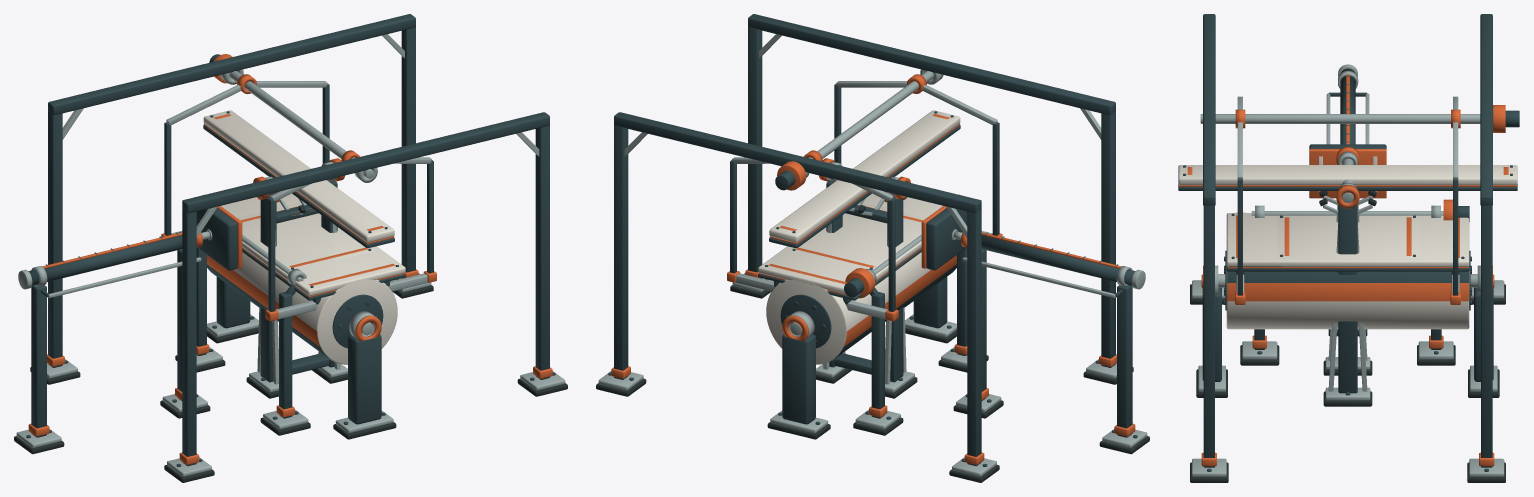
File: obstacle-library.glb
The picture shows the model from 3 angles, left to right: view 1: azimuth 30°, elevation 25°; view 2: azimuth 150°, elevation 25°; view 3: azimuth 270°, elevation 25°; orthographic projection. The views are drawn at different scales.
Parts seen in each view (by area): view 1: SwayCradleBridge_GantryNear, SwayCradleBridge_GantryFar, SwayCradleBridge_DeckVisual, PistonWall_CylinderBody, AxialRoller_DrumVisual, WeightSeesaw_DeckVisual, SwayCradleBridge_HangerVisual, AxialRoller_BearingNear, TimedTrapdoor_AxleFrame, WeightSeesaw_AxleFrame, AxialRoller_BearingFar, PistonWall_HeadVisual (+4 smaller); view 2: SwayCradleBridge_GantryFar, SwayCradleBridge_GantryNear, PistonWall_CylinderBody, AxialRoller_DrumVisual, WeightSeesaw_DeckVisual, SwayCradleBridge_HangerVisual, SwayCradleBridge_DeckVisual, AxialRoller_BearingFar, TimedTrapdoor_AxleFrame, TimedTrapdoor_DeckVisual, WeightSeesaw_AxleFrame, AxialRoller_BearingNear (+5 smaller); view 3: AxialRoller_DrumVisual, SwayCradleBridge_DeckVisual, WeightSeesaw_DeckVisual, SwayCradleBridge_GantryFar, SwayCradleBridge_GantryNear, TimedTrapdoor_DeckVisual, WeightSeesaw_AxleFrame, SwayCradleBridge_UpperAxle, SwayCradleBridge_HangerVisual, TimedTrapdoor_AxleFrame, PistonWall_HeadVisual, AxialRoller_BearingNear (+4 smaller).
Part boxes in pixels (x1,y1,x2,y2): SwayCradleBridge_GantryNear: (164,112,567,482); SwayCradleBridge_GantryFar: (30,14,433,384); SwayCradleBridge_DeckVisual: (221,193,405,300); PistonWall_CylinderBody: (14,231,210,454); AxialRoller_DrumVisual: (207,252,397,364); WeightSeesaw_DeckVisual: (203,110,394,248); SwayCradleBridge_HangerVisual: (161,74,436,321); AxialRoller_BearingNear: (333,311,396,439); TimedTrapdoor_AxleFrame: (175,248,310,435); WeightSeesaw_AxleFrame: (253,158,344,384); AxialRoller_BearingFar: (207,277,258,343); PistonWall_HeadVisual: (196,194,242,270); SwayCradleBridge_GantryFar: (596,112,999,482); SwayCradleBridge_GantryNear: (730,14,1133,384); PistonWall_CylinderBody: (953,231,1149,454); AxialRoller_DrumVisual: (766,252,956,364); WeightSeesaw_DeckVisual: (769,110,960,248); SwayCradleBridge_HangerVisual: (727,74,1002,321); SwayCradleBridge_DeckVisual: (758,193,942,300); AxialRoller_BearingFar: (767,311,830,439); TimedTrapdoor_AxleFrame: (853,248,988,435); TimedTrapdoor_DeckVisual: (787,202,926,274); WeightSeesaw_AxleFrame: (819,158,910,384); AxialRoller_BearingNear: (905,277,956,343); AxialRoller_DrumVisual: (1218,235,1477,329); SwayCradleBridge_DeckVisual: (1226,213,1469,271); WeightSeesaw_DeckVisual: (1178,158,1517,202); SwayCradleBridge_GantryFar: (1467,14,1505,482); SwayCradleBridge_GantryNear: (1190,14,1228,482); TimedTrapdoor_DeckVisual: (1251,211,1443,258); WeightSeesaw_AxleFrame: (1319,146,1376,393); SwayCradleBridge_UpperAxle: (1200,105,1519,132); SwayCradleBridge_HangerVisual: (1235,96,1460,304); TimedTrapdoor_AxleFrame: (1240,205,1455,365); PistonWall_HeadVisual: (1309,144,1386,198); AxialRoller_BearingNear: (1196,265,1227,397).
Size of the model in its own units: 11.55 by 6.4 by 7.04.
